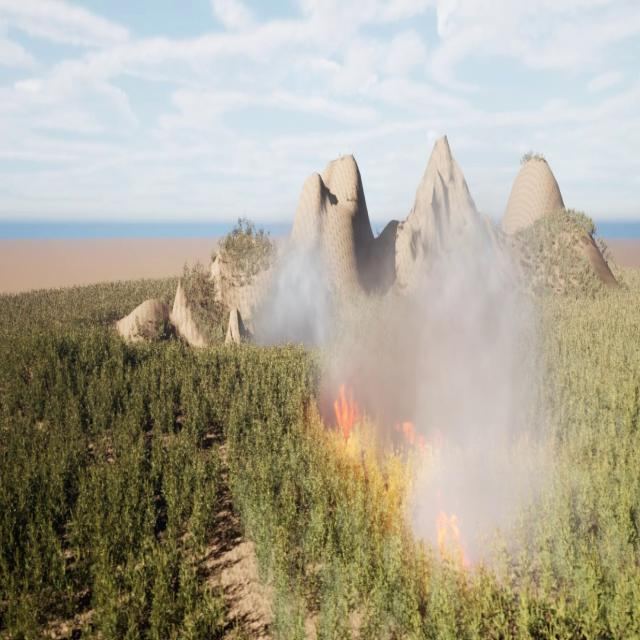fire: (430, 498, 475, 577), (327, 376, 366, 446), (396, 407, 448, 459)
smoke: (252, 197, 550, 569)
